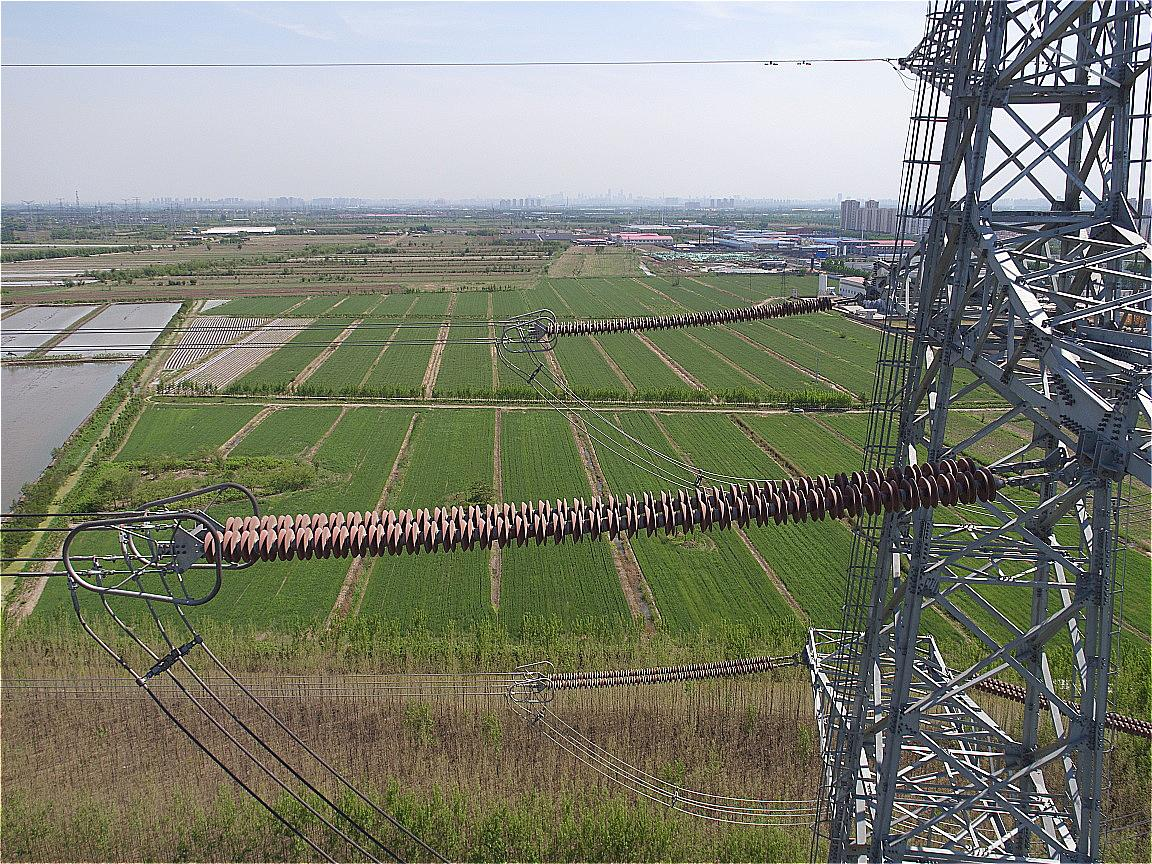insultor2: (203, 454, 998, 565), (548, 294, 834, 333), (548, 654, 777, 691)
